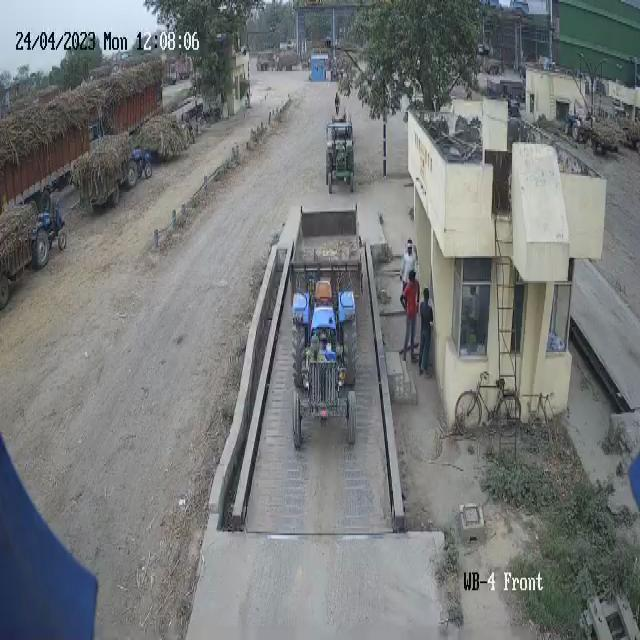Tratores - v5 YOLO V8L 2024-11-13: (284, 285, 362, 452), (324, 113, 362, 192), (32, 200, 72, 264), (122, 144, 152, 178)
